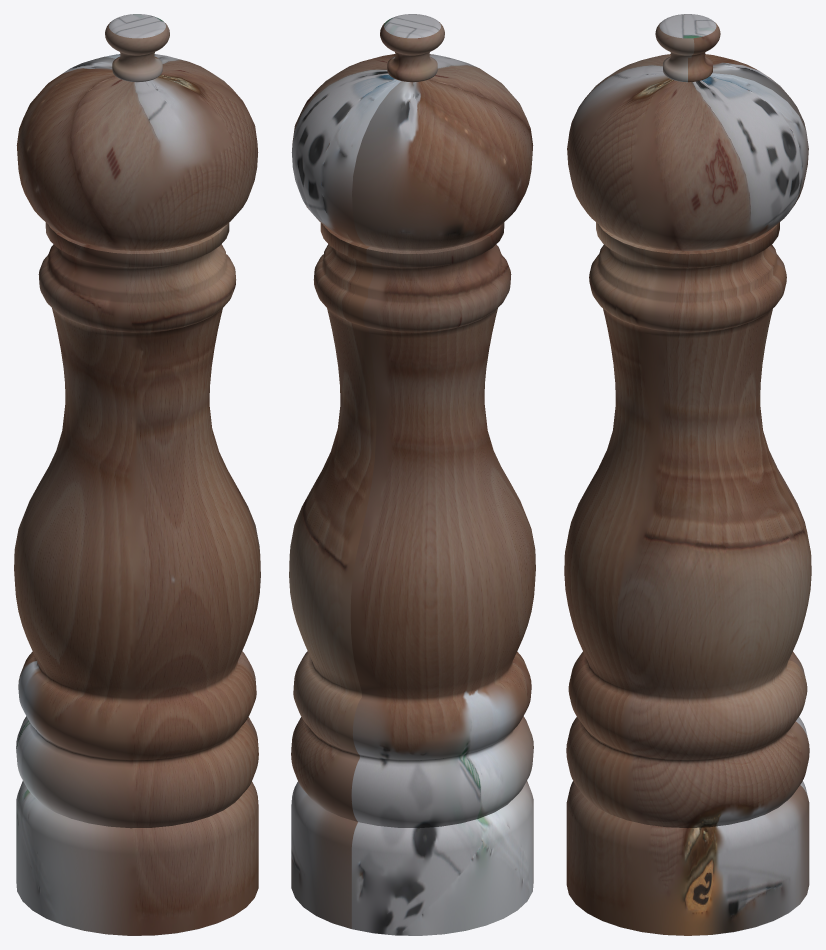
Rendered from peppermill.fbx.
The picture shows the model from 3 angles, left to right: view 1: azimuth 30°, elevation 25°; view 2: azimuth 150°, elevation 25°; view 3: azimuth 270°, elevation 25°; orthographic projection.
Parts seen in each view (by area): view 1: Line001; view 2: Line001; view 3: Line001.
Boxes of the visible parts, x1,y1,x2,y2 form: Line001: (14,14,260,935); Line001: (289,14,535,935); Line001: (564,14,811,935).
Bounding box in the file's own units: 181 × 696 × 181.
